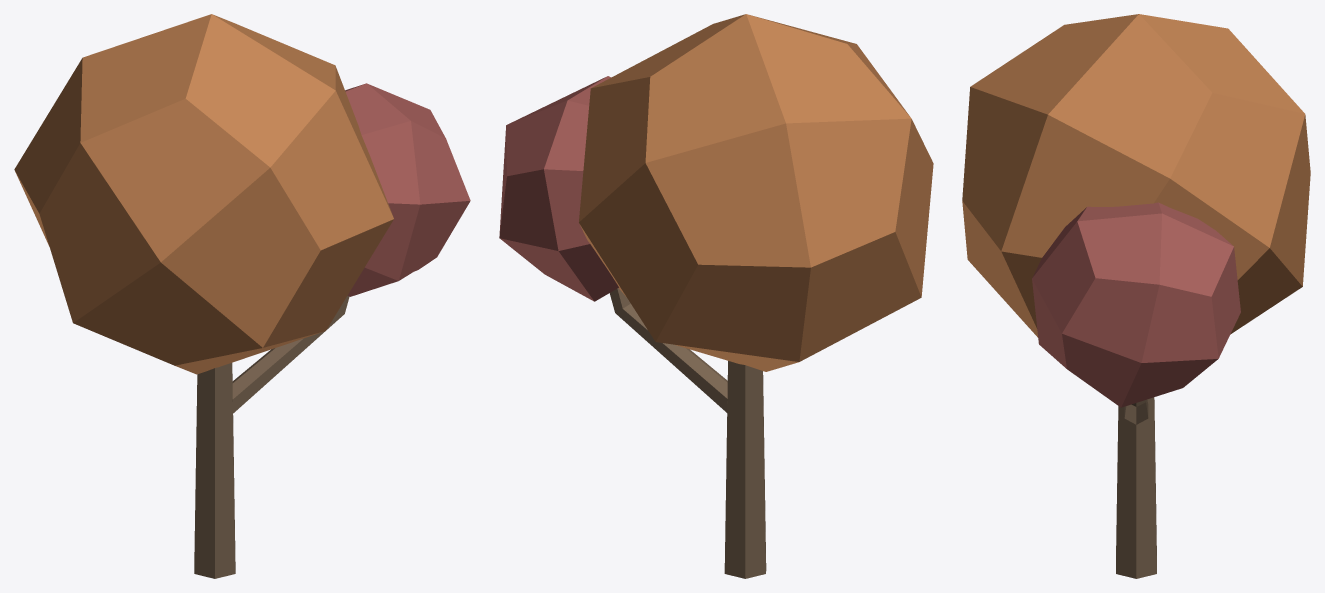
Rendered from Tree_06.fbx.
The picture shows the model from 3 angles, left to right: view 1: azimuth 30°, elevation 25°; view 2: azimuth 150°, elevation 25°; view 3: azimuth 270°, elevation 25°; orthographic projection.
Parts seen in each view (by area): view 1: Tree_06; view 2: Tree_06; view 3: Tree_06.
Part boxes in pixels (bbox=[...]): Tree_06: bbox=[14, 14, 470, 578]; Tree_06: bbox=[499, 14, 933, 578]; Tree_06: bbox=[962, 14, 1310, 578].
Bounding box in the file's own units: 107 × 143 × 81.7.
